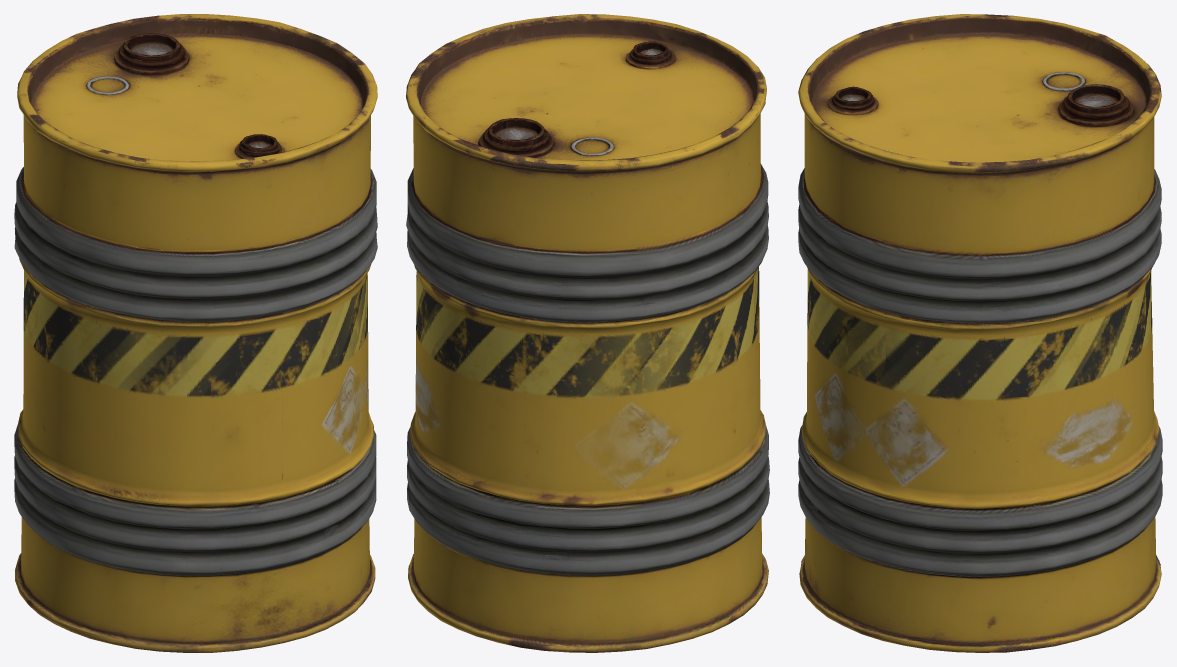
The model's file is barrel_hazard_yellow.glb.
3 renders of one model, left to right at view 1: azimuth 30°, elevation 25°; view 2: azimuth 150°, elevation 25°; view 3: azimuth 270°, elevation 25°, orthographic.
Parts seen in each view (by area): view 1: tripo_node_5fd2989d-fb9c-408d-8035-d0aac377fe74; view 2: tripo_node_5fd2989d-fb9c-408d-8035-d0aac377fe74; view 3: tripo_node_5fd2989d-fb9c-408d-8035-d0aac377fe74.
Part boxes in pixels (x1,y1,x2,y2): tripo_node_5fd2989d-fb9c-408d-8035-d0aac377fe74: [14, 14, 377, 652]; tripo_node_5fd2989d-fb9c-408d-8035-d0aac377fe74: [406, 14, 769, 652]; tripo_node_5fd2989d-fb9c-408d-8035-d0aac377fe74: [798, 14, 1162, 652].
Size of the model in its own units: 0.6738 by 0.998 by 0.6738.
1 material, 1 textured.
